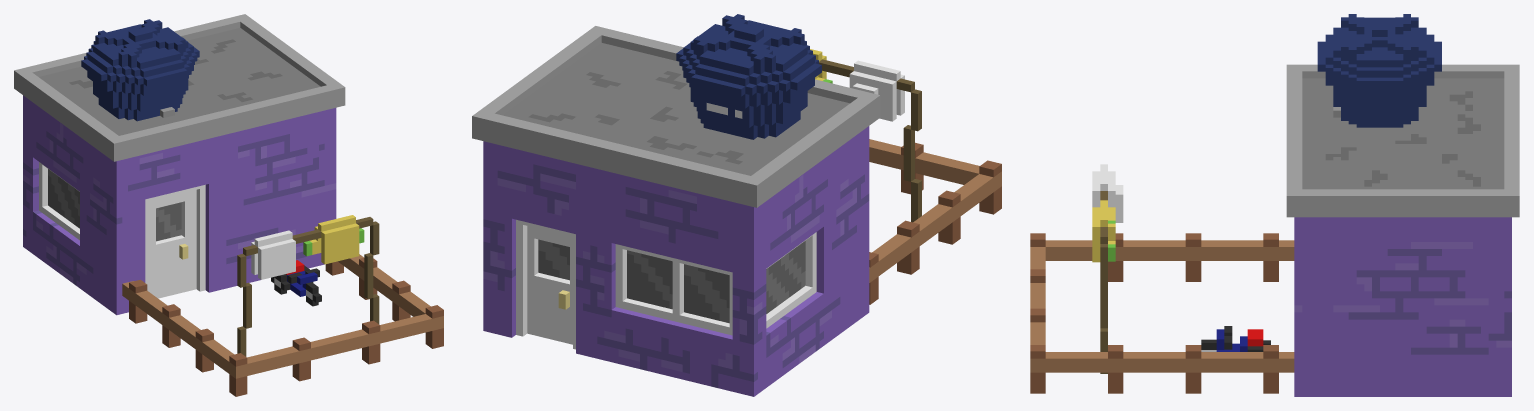
The model's file is variaçõesdecorcasa-11.obj.
3 renders of one model, left to right at view 1: azimuth 30°, elevation 25°; view 2: azimuth 150°, elevation 25°; view 3: azimuth 270°, elevation 25°, orthographic. The views are drawn at different scales.
Bounding box in the file's own units: 4 × 4 × 6.3.
Materials: 1 (1 with a texture image).
